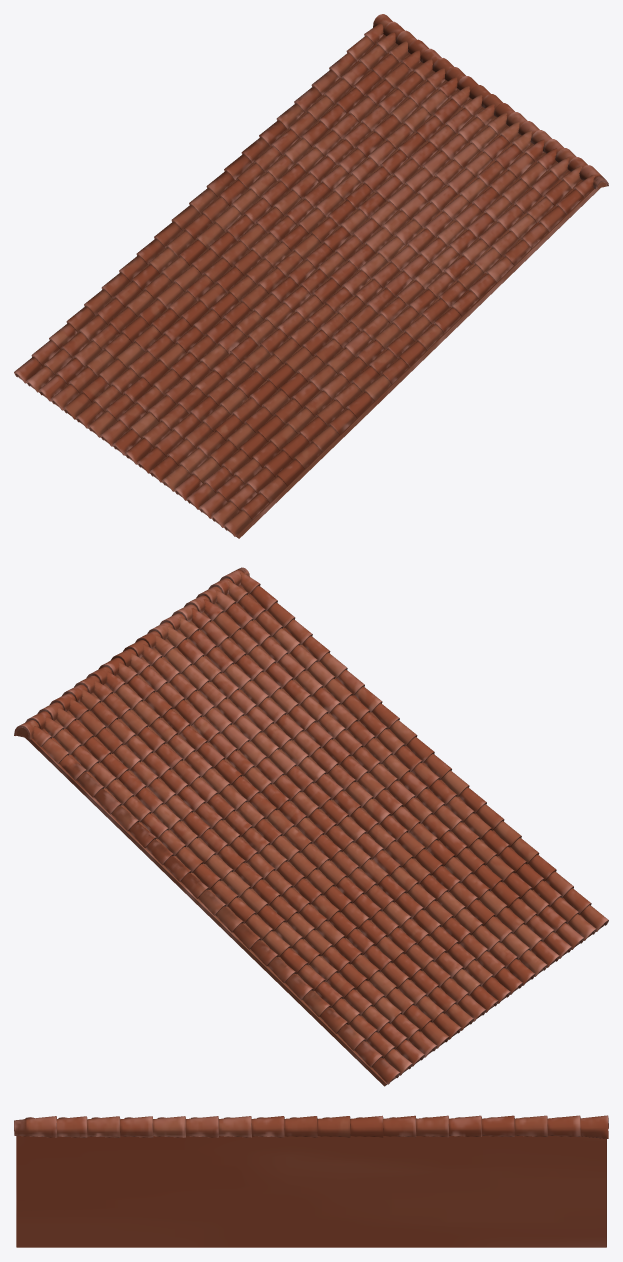
File: SM_Roof_A_Simple.fbx
The picture shows the model from 3 angles, top to bottom: view 1: azimuth 30°, elevation 25°; view 2: azimuth 150°, elevation 25°; view 3: azimuth 270°, elevation 25°; orthographic projection. The views are drawn at different scales.
Parts seen in each view (by area): view 1: SM_Roof_A_Simple_LOD0; view 2: SM_Roof_A_Simple_LOD0; view 3: SM_Roof_A_Simple_LOD0.
Part boxes in pixels (left/top/right/bottom): SM_Roof_A_Simple_LOD0: left=14, top=14, right=608, bottom=538; SM_Roof_A_Simple_LOD0: left=14, top=567, right=608, bottom=1086; SM_Roof_A_Simple_LOD0: left=14, top=1115, right=608, bottom=1247.
Bounding box in the file's own units: 718 × 726 × 495.
1 material, 1 textured.
